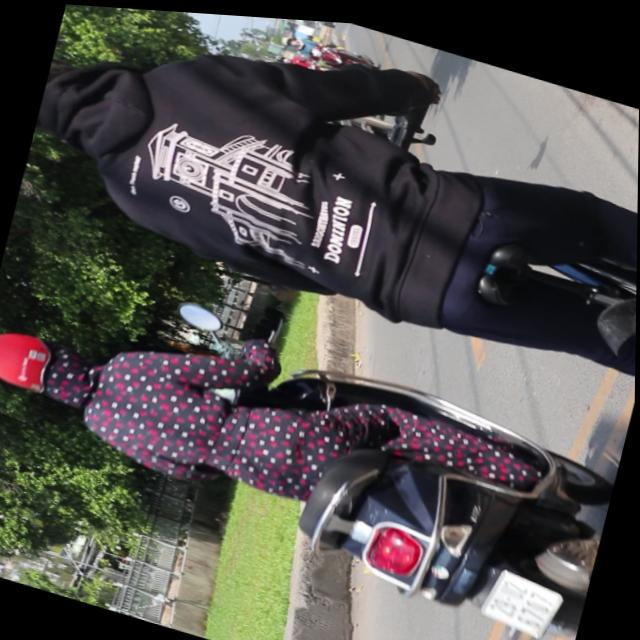helmet: (0, 317, 101, 411)
licenseplate: (0, 257, 626, 640)
nohelmet: (479, 557, 566, 634)
